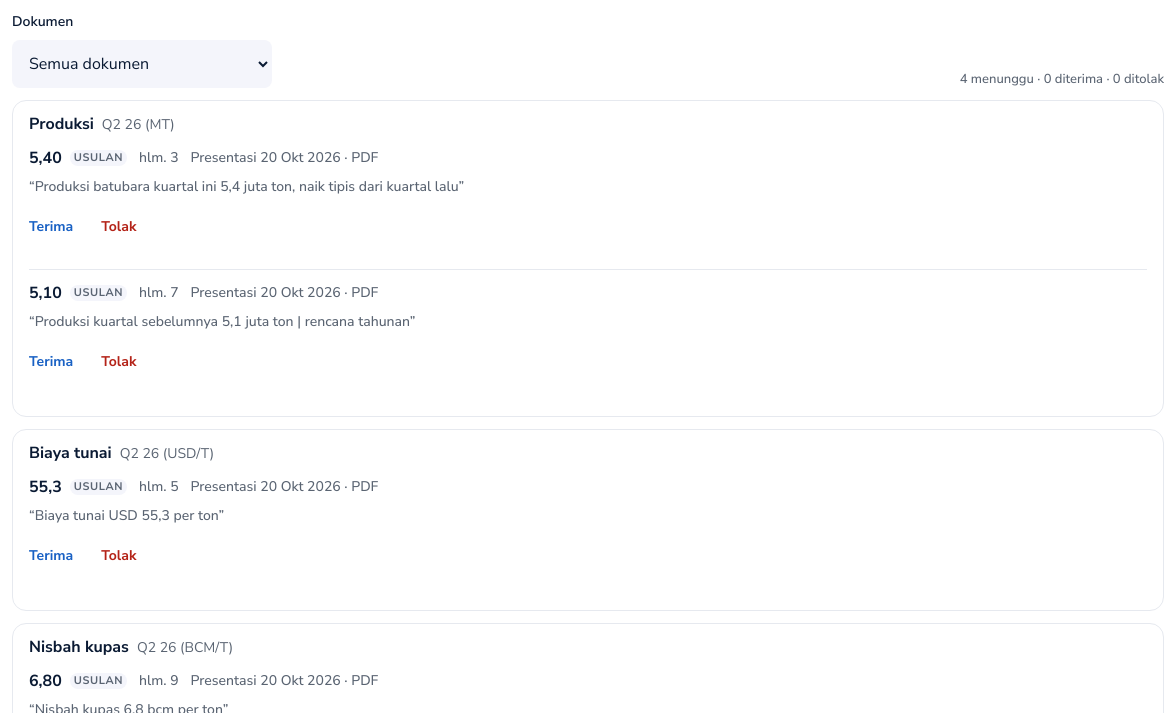
Test case: ProposalReview: accept › Ganti sends replace: true with its own key and reports the replacement
The width and height of the screenshot is (1176, 713).
Expected: the heading "Produksi Q2 26 (MT)" is shown, [29,113,175,135]
Click the button "Terima" below "5,40" at (51, 227), box [17,205,85,249]
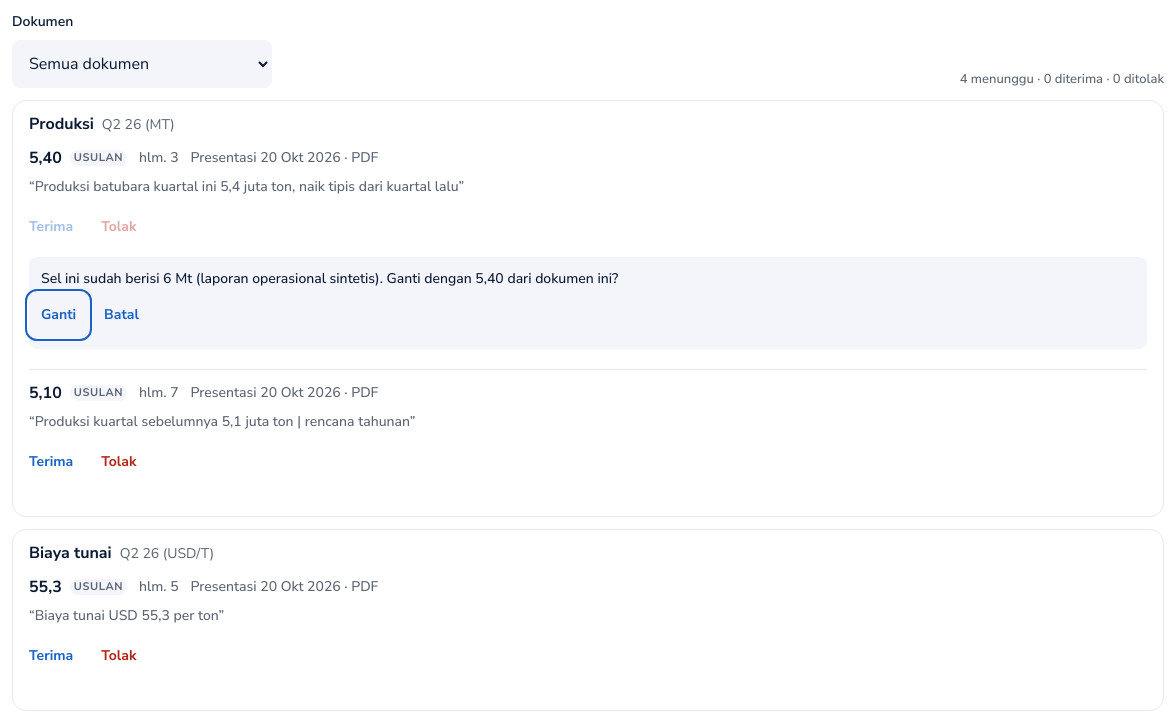
Click the button with aria-label "Ganti dengan" at (59, 315), box [29,293,88,337]
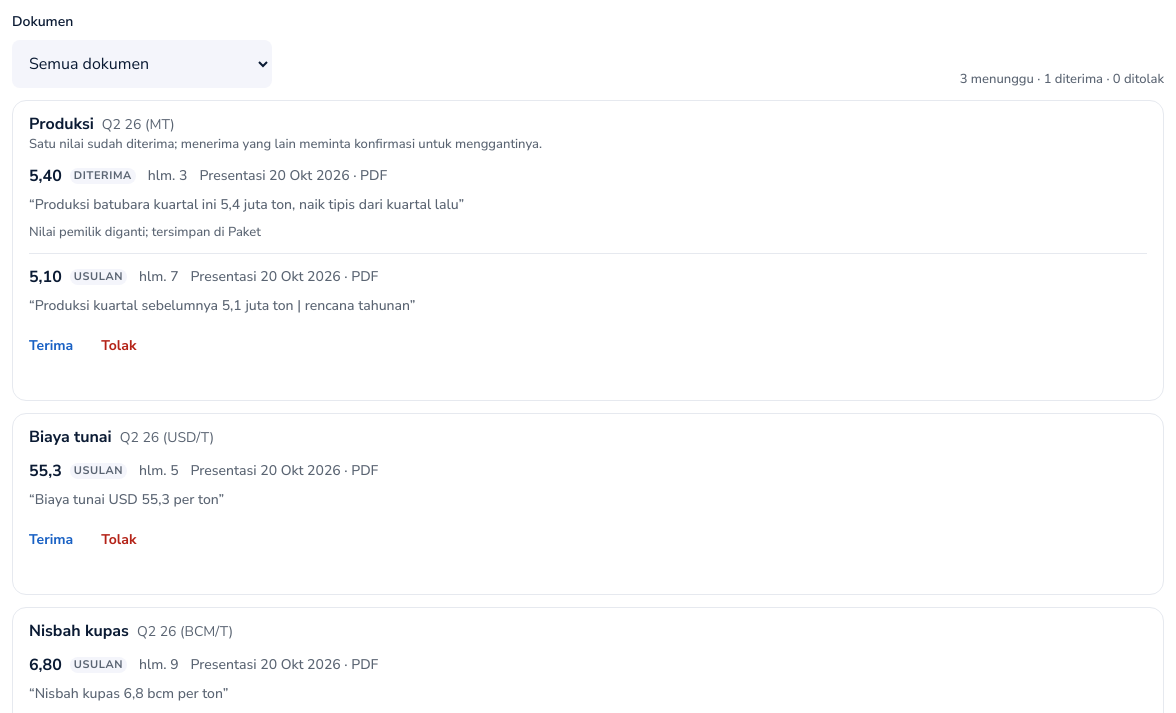
Expected: the message reads "Nilai pemilik diganti; tersimpan di Paket", [29,223,261,241]
Expected: the text "Satu nilai sudah diterima; menerima yang lain meminta konfirmasi" is shown, [29,135,542,153]
Click the button "Terima" below "5,10" at (51, 346), box [17,324,85,368]
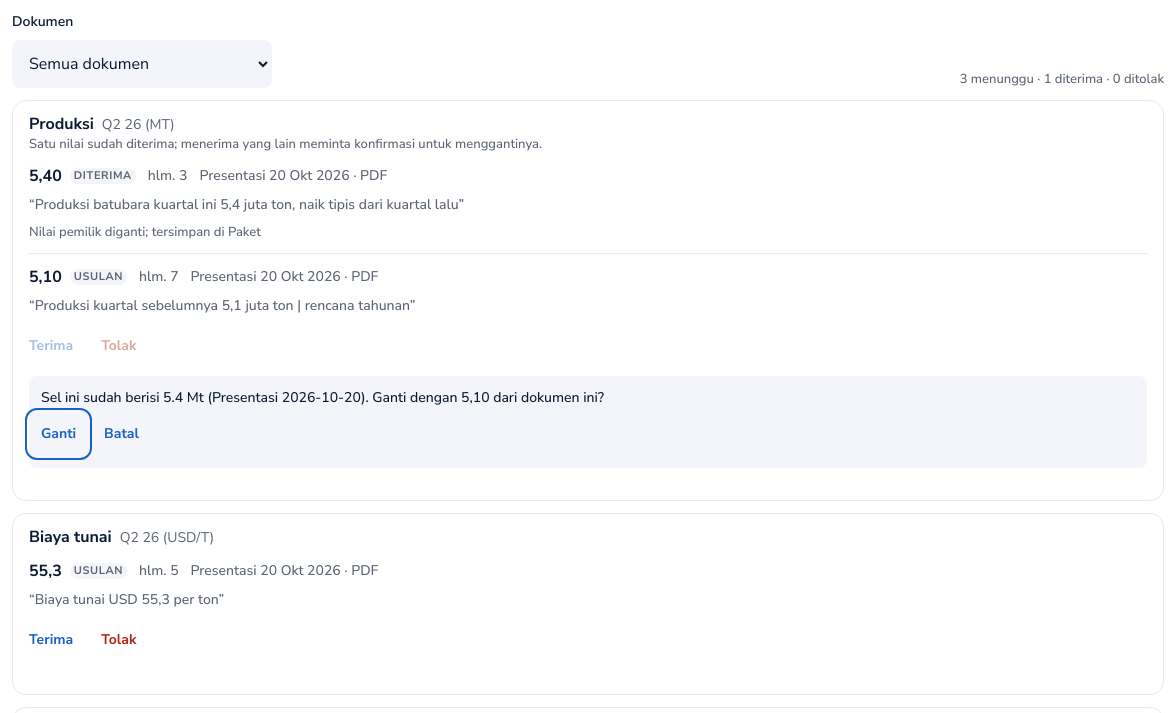
Expected: the element named "Konfirmasi ganti nilai" is shown, [29,376,1147,468]
